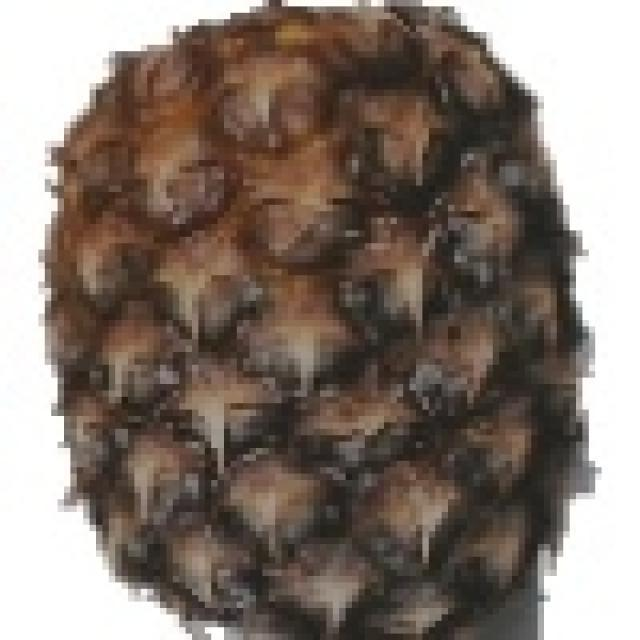pineapple: (45, 0, 586, 640)
